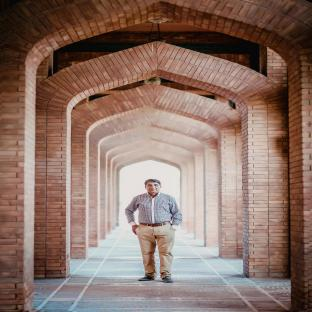Human: (125, 179, 182, 283)
